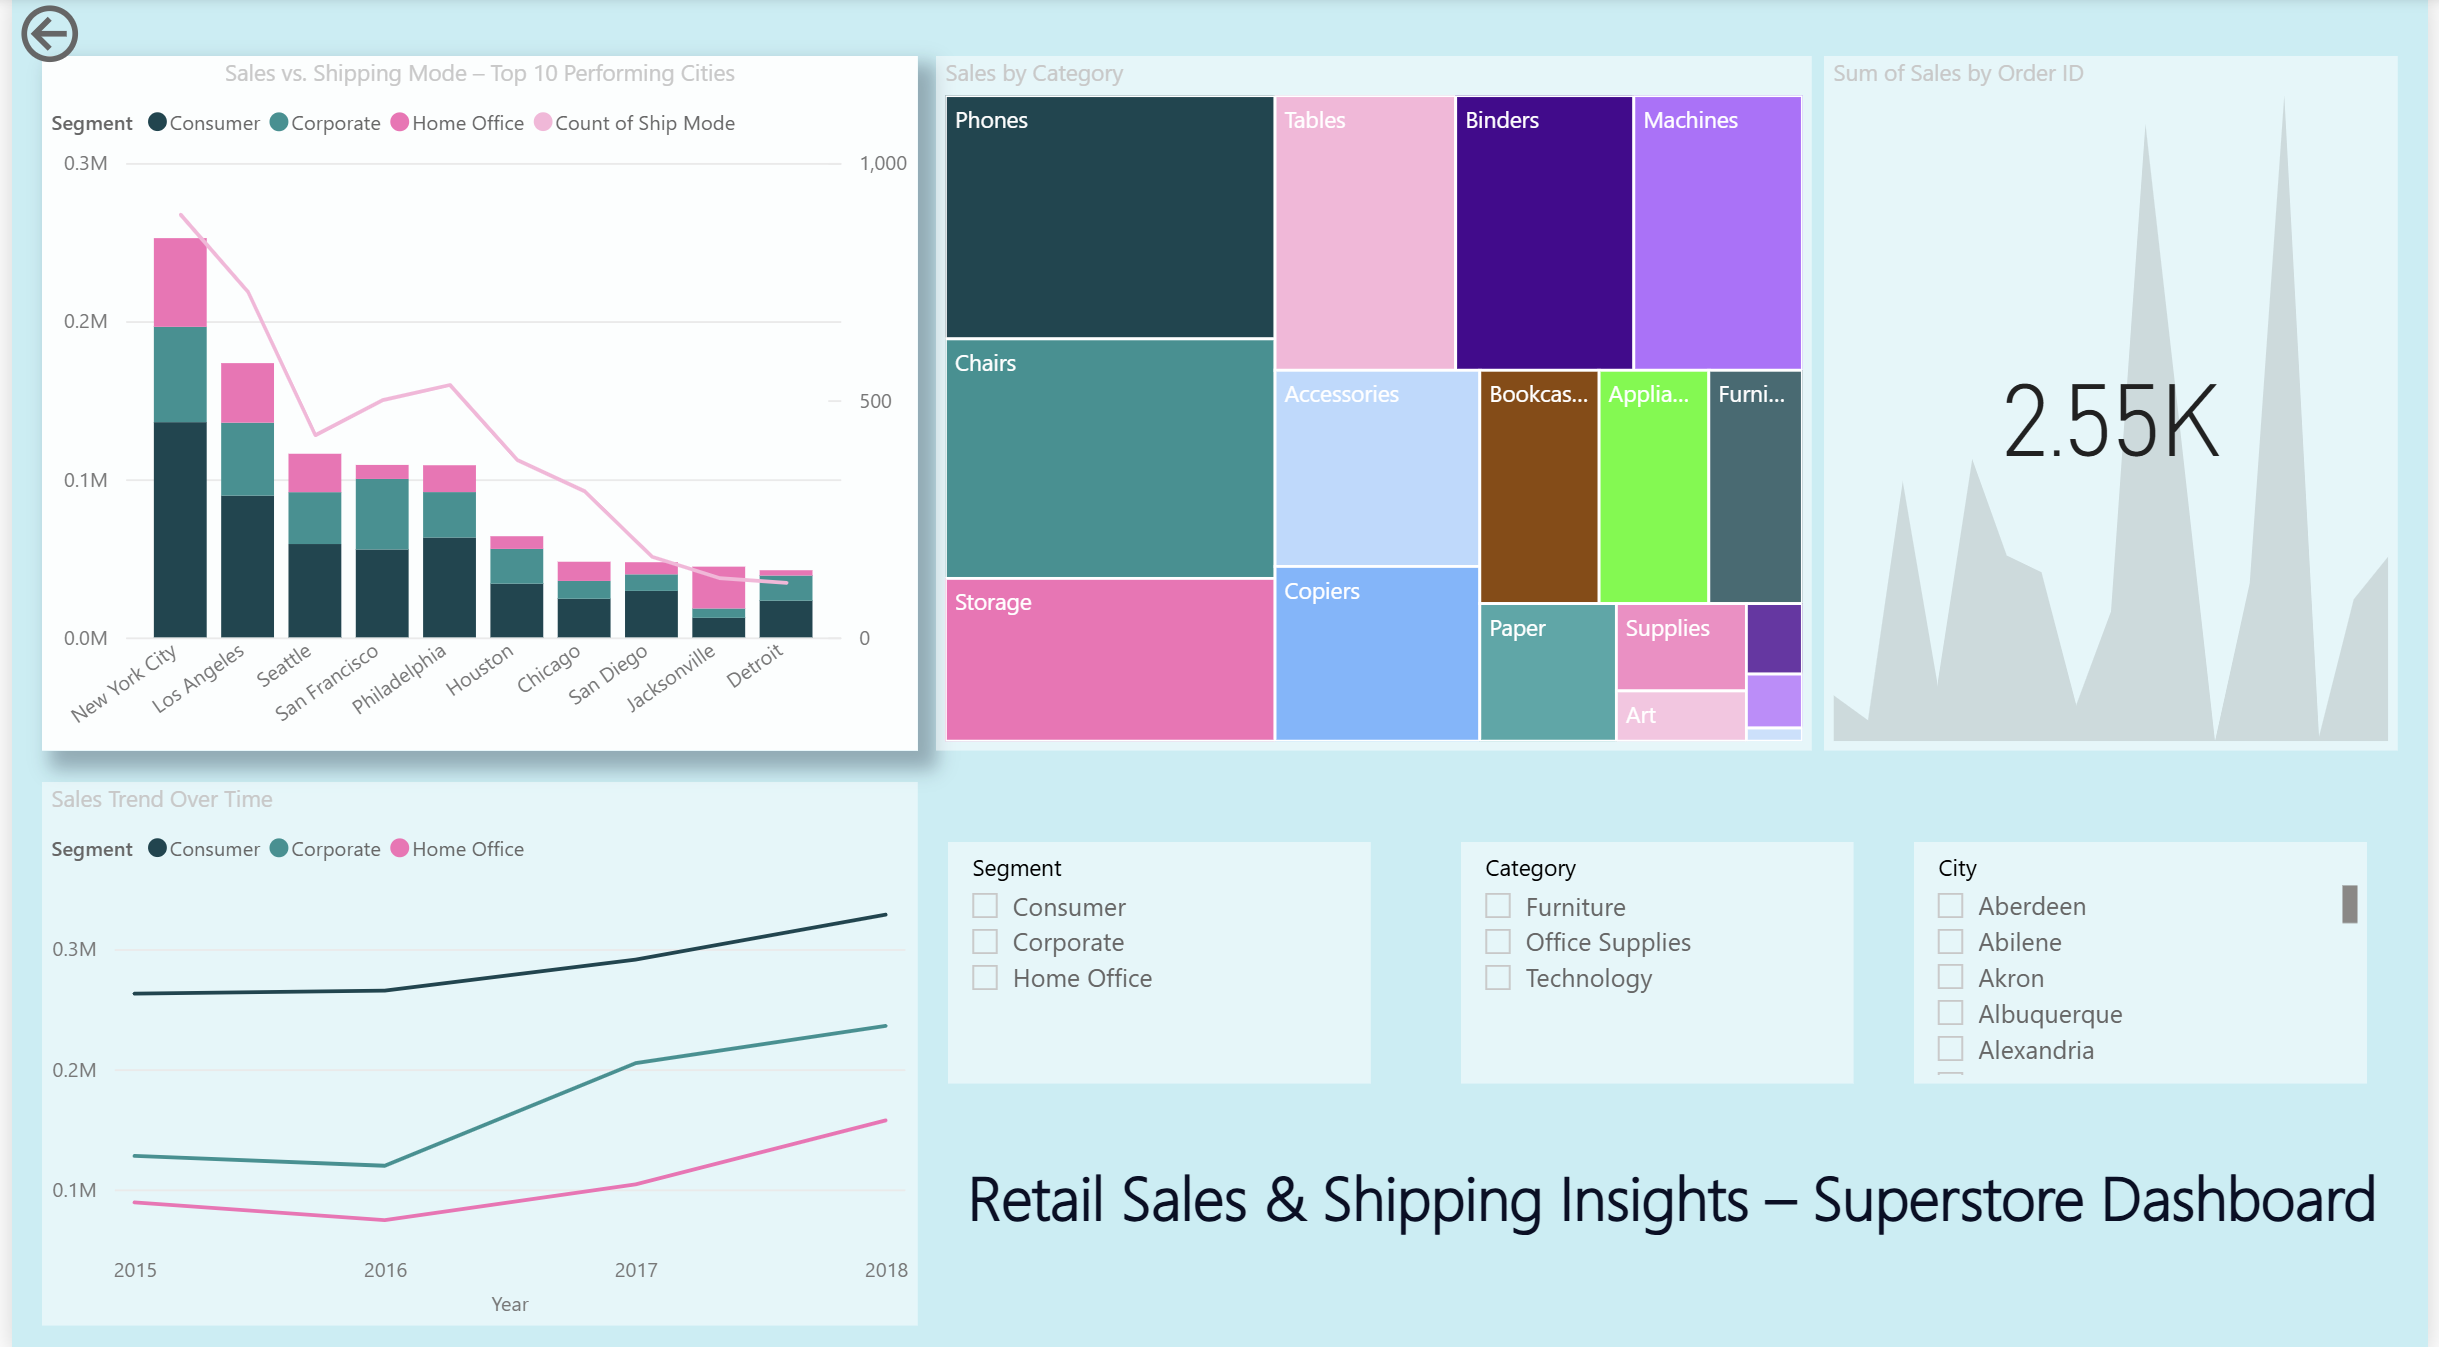

The dashboard page shown, as its layout file describes it:
{"tool":"powerbi","page":{"name":"Analyzing Top Cities, Categories, and Shipping Trends (2015–2018)","canvas":[1280,720],"ordinal":0},"visuals":[{"type":"lineStackedColumnComboChart","title":"Sales vs. Shipping Mode – Top 10 Performing Cities","fields":{"Category":["train.City"],"Y":["Sum(train.Sales)"],"Series":["train.Segment"],"Y2":["CountNonNull(train.Ship Mode)"]},"box":[16,32,464,368],"z":0},{"type":"lineChart","title":"Sales Trend Over Time","fields":{"Category":["train.Order Date.Variation.Date Hierarchy.Year","train.Order Date.Variation.Date Hierarchy.Quarter","train.Order Date.Variation.Date Hierarchy.Month","train.Order Date.Variation.Date Hierarchy.Day"],"Y":["Sum(train.Sales)"],"Series":["train.Segment"]},"box":[16,416,464,288],"z":1000},{"type":"treemap","title":"Sales by Category","fields":{"Group":["train.Sub-Category"],"Values":["Sum(train.Sales)"]},"box":[490,32,464,368],"z":2000},{"type":"actionButton","box":[0,0,100,40],"z":3000},{"type":"kpi","fields":{"Indicator":["Sum(train.Sales)"],"TrendLine":["train.Order ID"]},"box":[960,32,304,368],"z":4000},{"type":"slicer","fields":{"Values":["train.Segment"]},"box":[496,448,224,128],"z":5000},{"type":"slicer","fields":{"Values":["train.Category"]},"box":[768,448,208,128],"z":6000},{"type":"slicer","fields":{"Values":["train.City"]},"box":[1008,448,240,128],"z":7000},{"type":"textbox","box":[496,608,768,64],"z":8000}]}

Visuals, with their boxes in screenshot pixels (x1, y1, x2, y2), scaled from the page's 1280x720 canvas onto the 2439x1347 screenshot:
"Sales vs. Shipping Mode – Top 10 Performing Cities" lineStackedColumnComboChart: x1=30, y1=60, x2=915, y2=748
"Sales Trend Over Time" lineChart: x1=30, y1=778, x2=915, y2=1317
"Sales by Category" treemap: x1=934, y1=60, x2=1818, y2=748
actionButton: x1=0, y1=0, x2=191, y2=75
kpi - Sum(train.Sales) x train.Order ID: x1=1829, y1=60, x2=2409, y2=748
slicer - train.Segment: x1=945, y1=838, x2=1372, y2=1078
slicer - train.Category: x1=1463, y1=838, x2=1860, y2=1078
slicer - train.City: x1=1921, y1=838, x2=2378, y2=1078
textbox: x1=945, y1=1137, x2=2409, y2=1257
